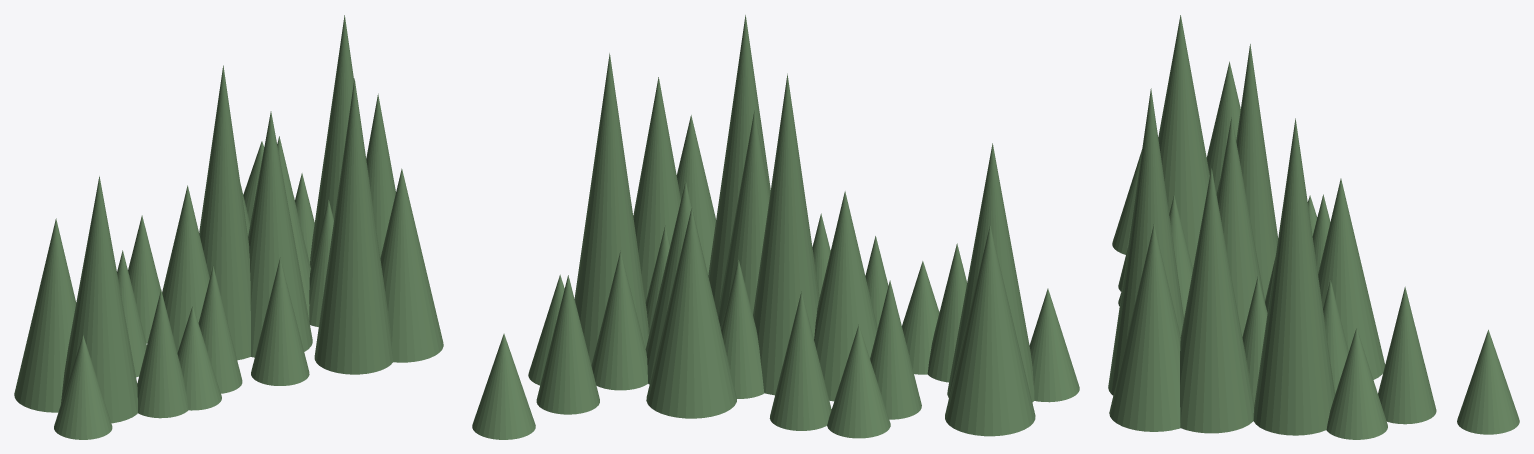
The model's file is forest.fbx.
3 views of the same model, side by side, from view 1: azimuth 30°, elevation 25°; view 2: azimuth 150°, elevation 25°; view 3: azimuth 270°, elevation 25° (orthographic). The views are drawn at different scales.
Visible parts, largest first — view 1: trees; view 2: trees; view 3: trees.
Part boxes in pixels (left/top/right/bottom): trees: left=14, top=15, right=443, bottom=439; trees: left=472, top=15, right=1079, bottom=439; trees: left=1108, top=15, right=1519, bottom=439.
Bounding box in the file's own units: 1936 × 1296 × 1610.
